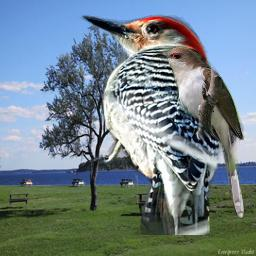Cuckoo: (151, 45, 245, 219)
Woodpecker: (73, 3, 229, 235)
